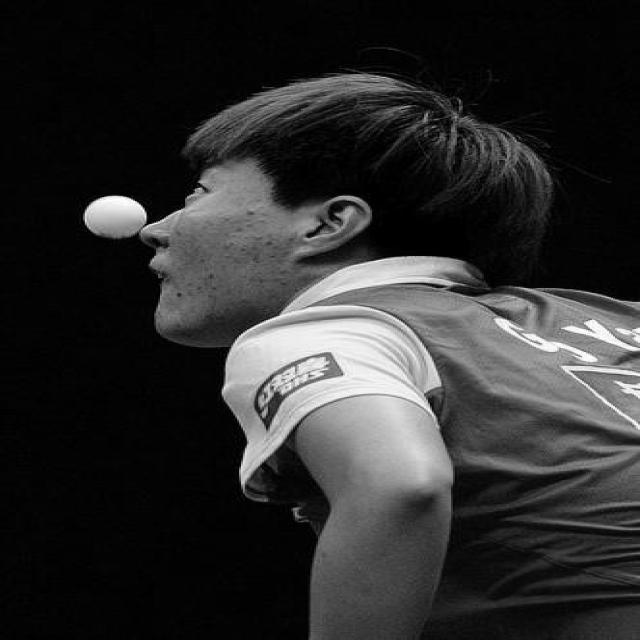ping-pong-ball: (82, 196, 148, 240)
